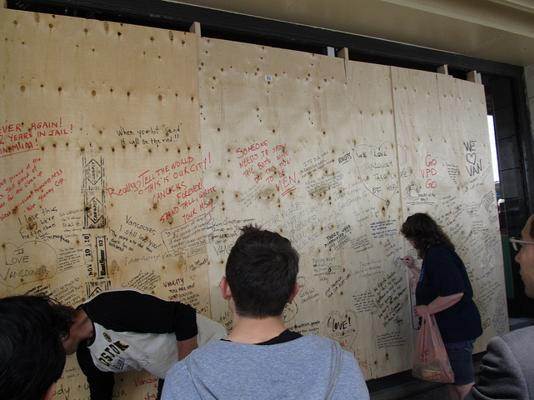person: (402, 213, 484, 400)
